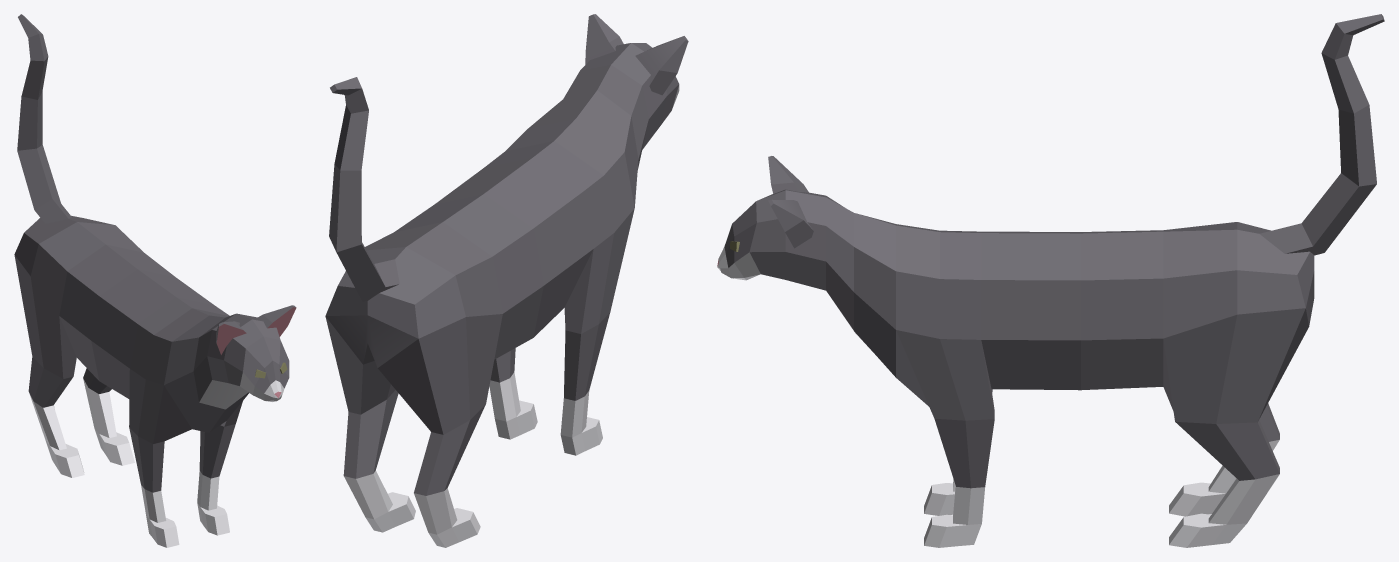
File: cat.obj
3 views of the same model, side by side, from view 1: azimuth 30°, elevation 25°; view 2: azimuth 150°, elevation 25°; view 3: azimuth 270°, elevation 25° (orthographic). The views are drawn at different scales.
Parts seen in each view (by area): view 1: Geo_Cat; view 2: Geo_Cat; view 3: Geo_Cat.
Part boxes in pixels (bbox=[...]): Geo_Cat: bbox=[14, 14, 296, 547]; Geo_Cat: bbox=[325, 14, 688, 547]; Geo_Cat: bbox=[717, 14, 1384, 547].
Size of the model in its own units: 17.49 by 71.29 by 84.26.
Materials: 1 (1 with a texture image).
